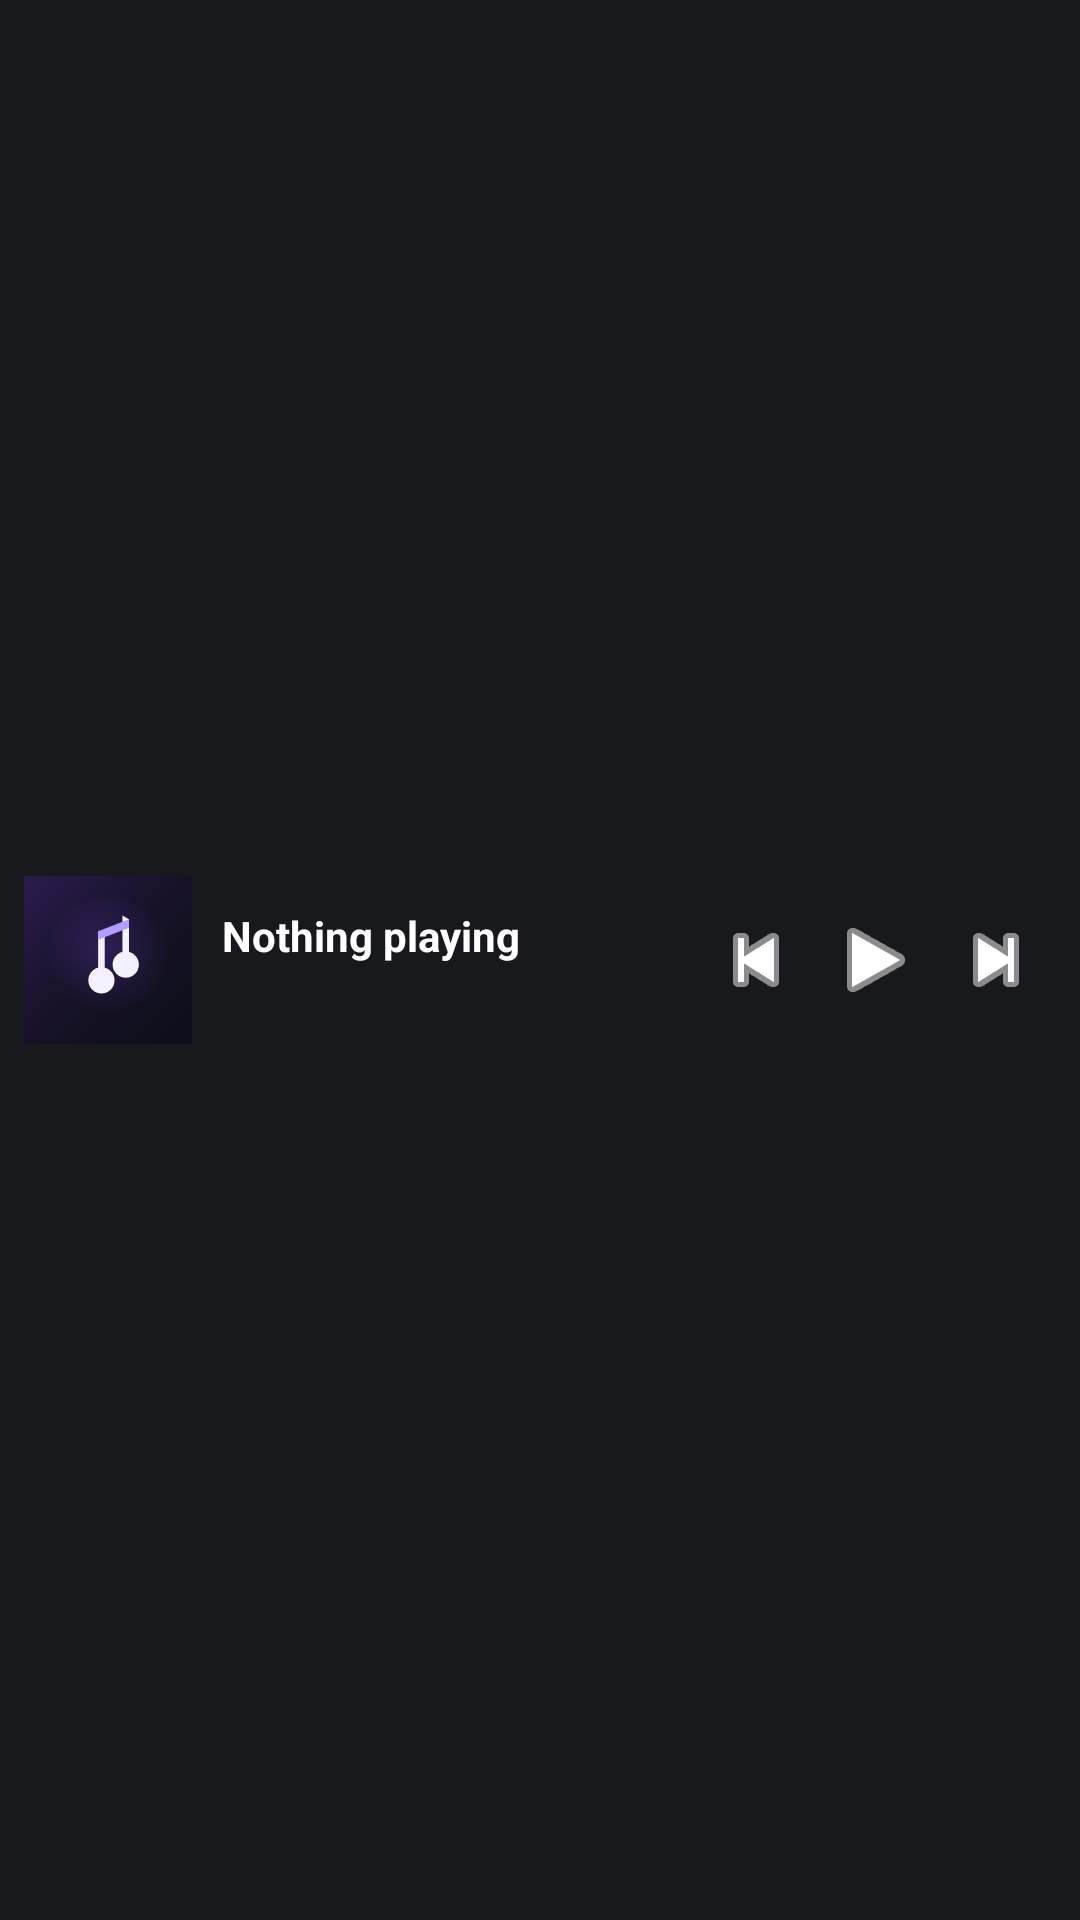

Named icons in this screenshot (1080w x 1920h) and their centers, point (x, y):
artwork: point (85, 935)
Next track: point (996, 960)
Previous track: point (756, 960)
